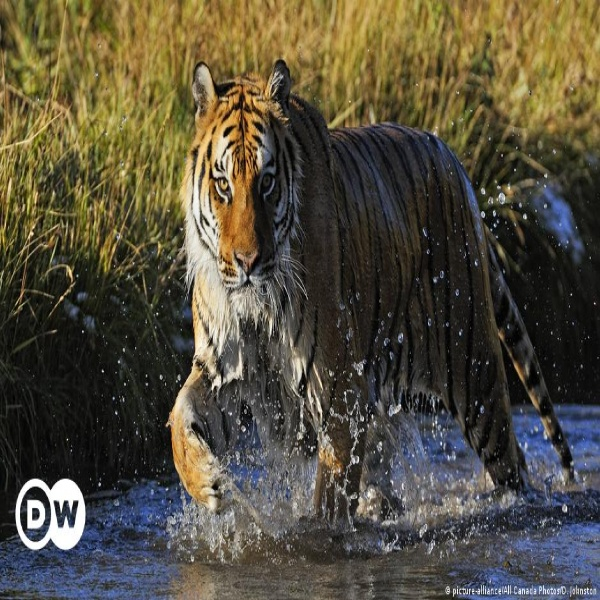Tiger: (167, 56, 591, 542)
